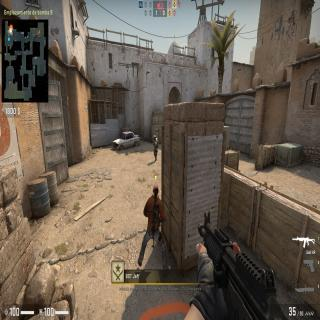CT-Head: (154, 136, 156, 140)
T-Head: (153, 184, 159, 194)
